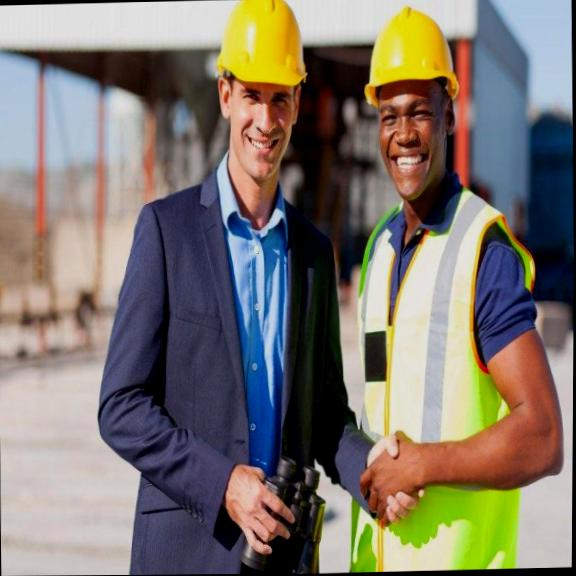no_safety_vest: (93, 185, 355, 575)
safety_vest: (340, 192, 569, 572)
